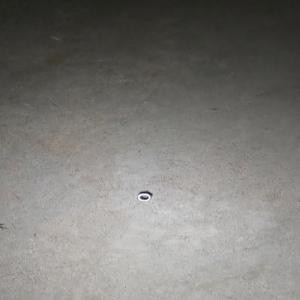Nut: (136, 191, 152, 202)
